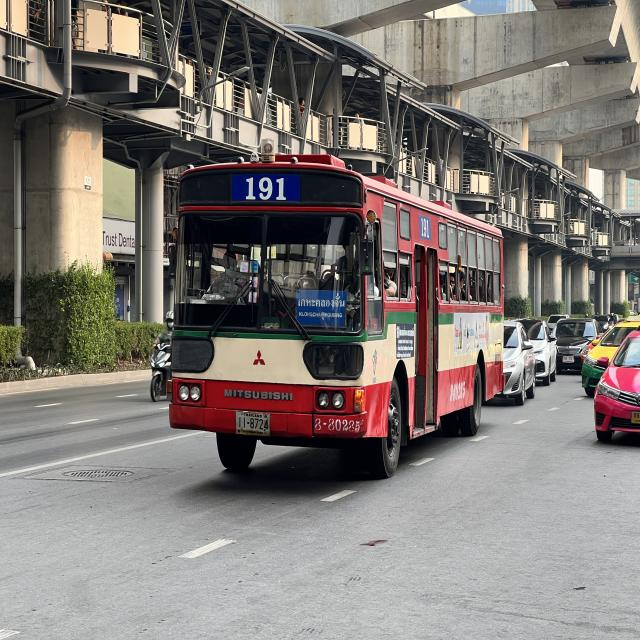BMTA-bus: (164, 132, 508, 484)
Bus-Line-Number: (241, 170, 292, 205)
Destination-Sign-Normal: (295, 289, 349, 331)
